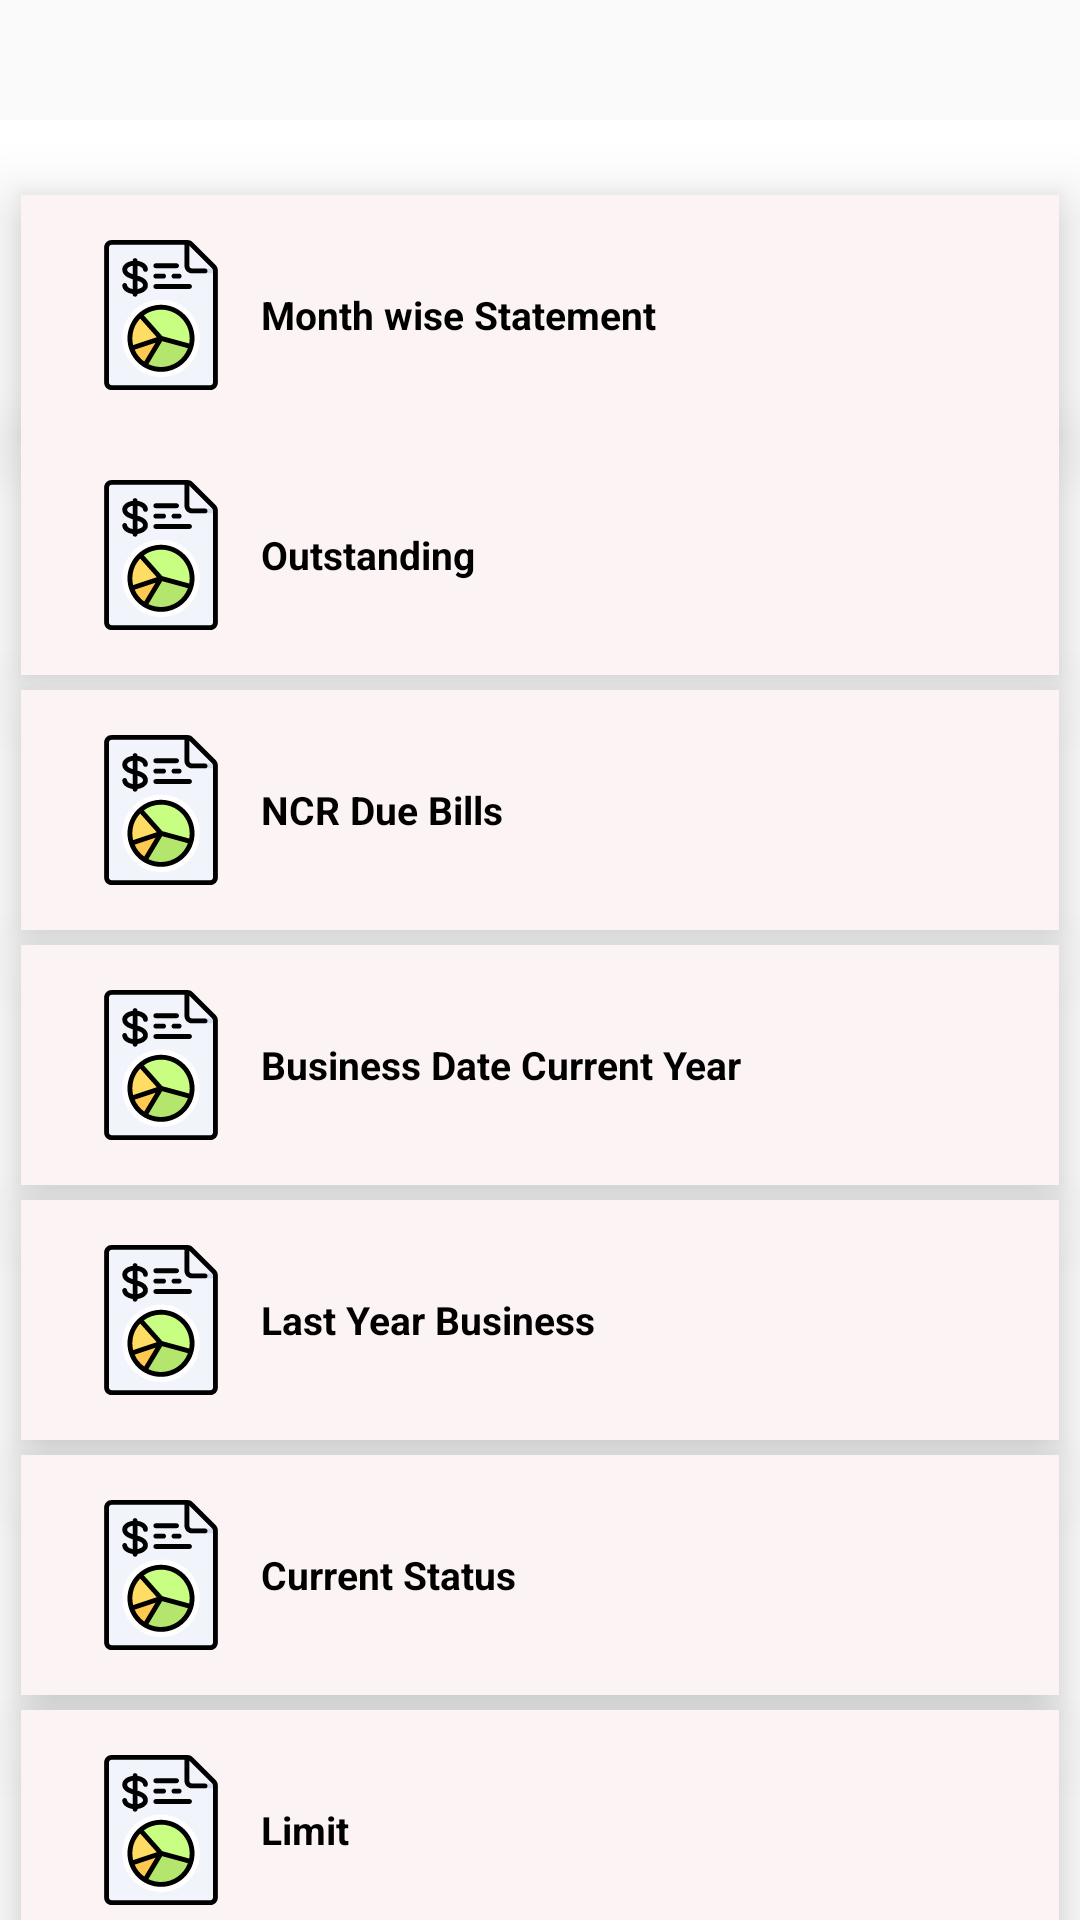

Named icons in this screenshot (1080*1920) and their centers, (x,y):
orderp: (161,315), (161,555), (161,810), (161,1065), (161,1320), (161,1575), (161,1830)
